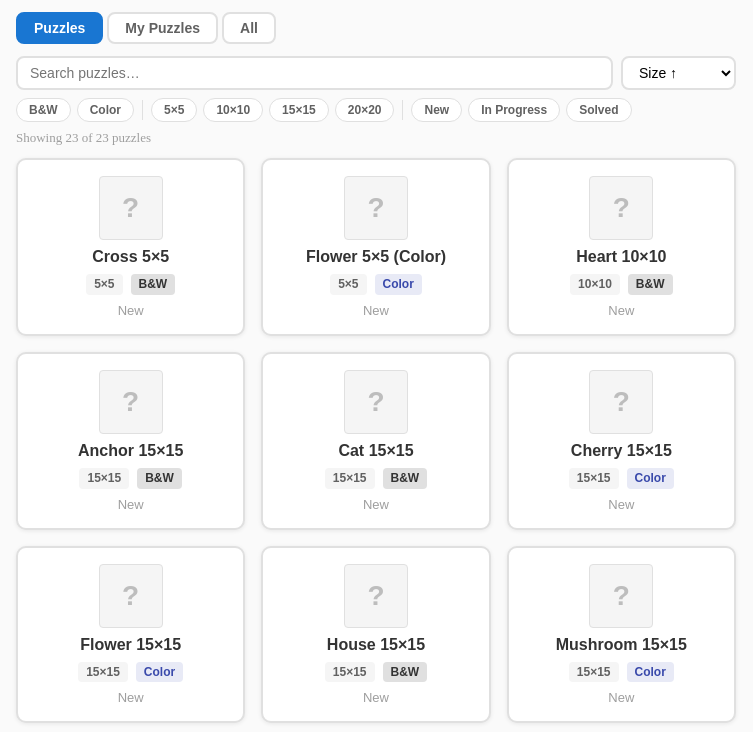
it: PuzzleBrowser › shows empty filter message when no matches
Type "zzz-nonexistent-puzzle-zzz" into the search field at x=314, y=73, box top-left (16, 56), bottom-right (613, 90)
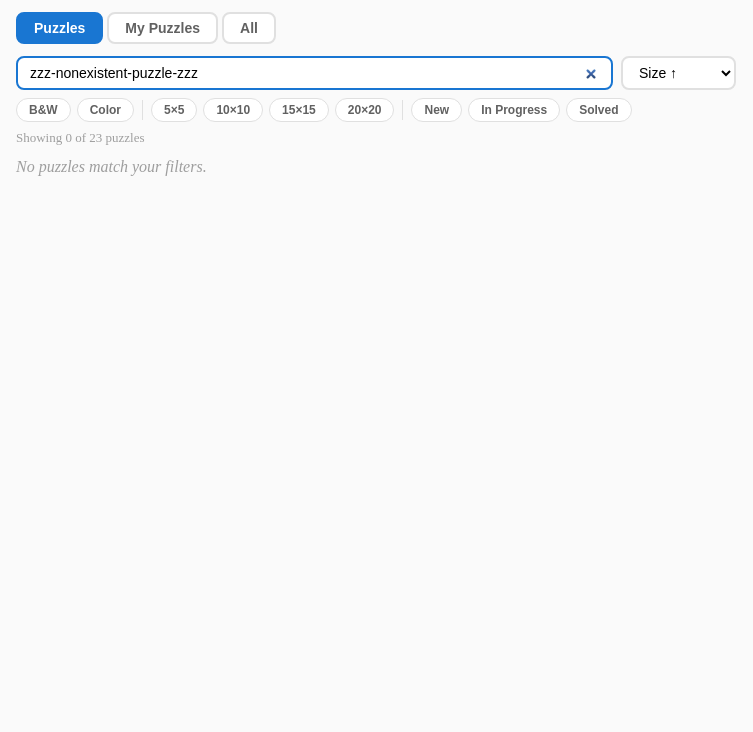
Expected: the text "No puzzles match your filters." is shown, top-left (16, 158), bottom-right (207, 175)
